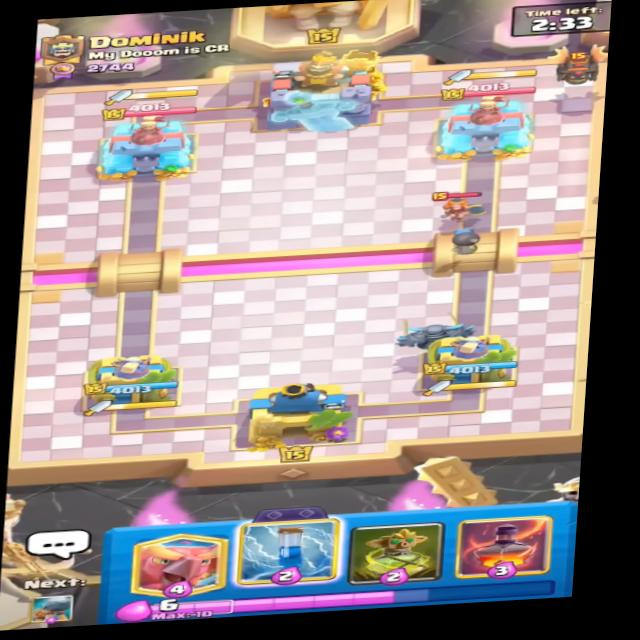lava-hound: (527, 40, 609, 90)
valkyrie: (431, 188, 491, 222)
